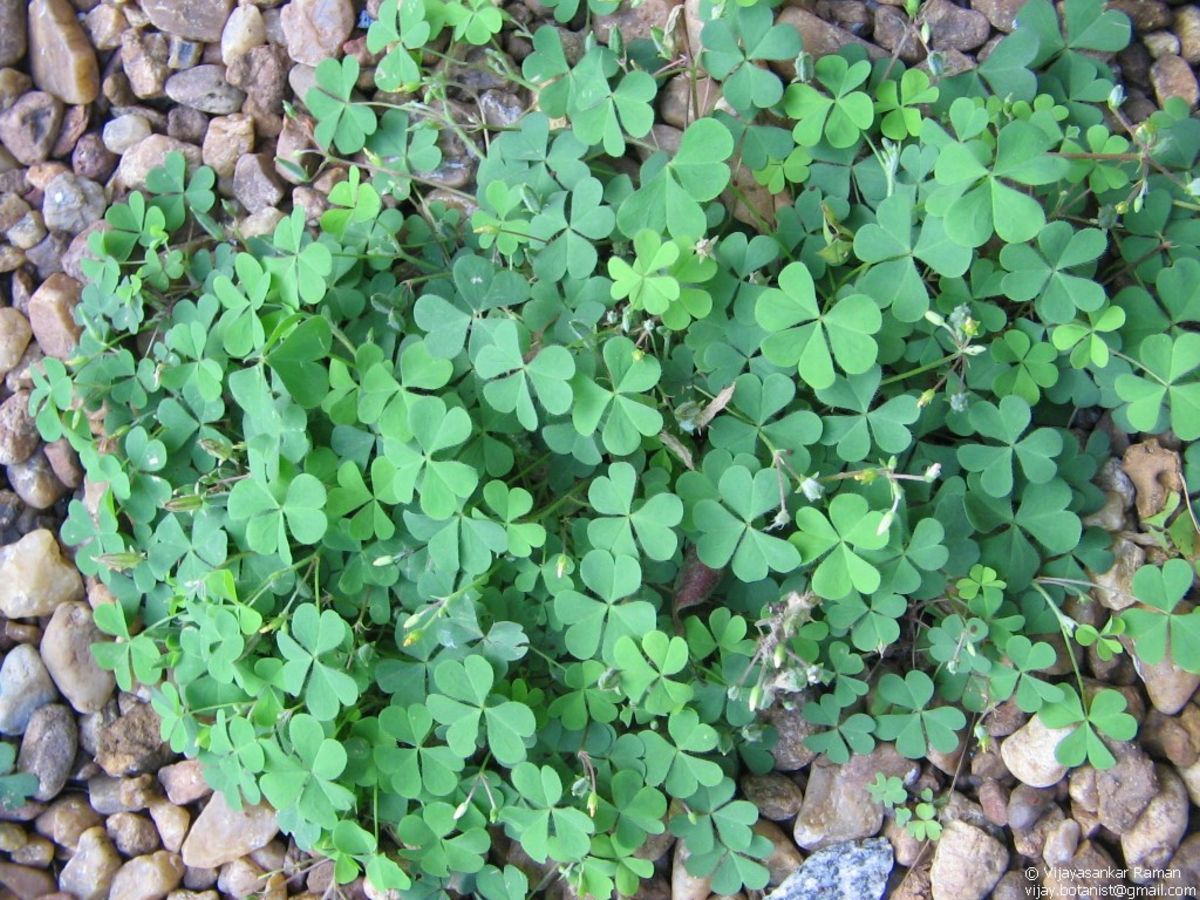oxalis: (45, 113, 1185, 794)
